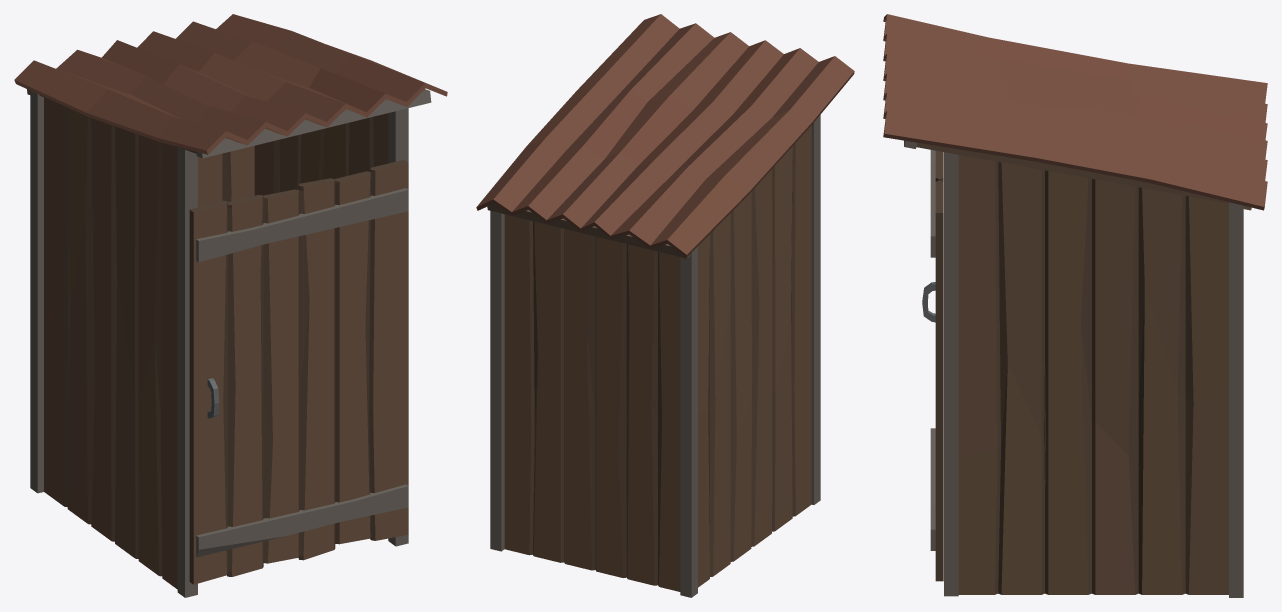
Rendered from SM_Bldg_Farm_Outhouse.fbx.
3 views of the same model, side by side, from view 1: azimuth 30°, elevation 25°; view 2: azimuth 150°, elevation 25°; view 3: azimuth 270°, elevation 25° (orthographic). The views are drawn at different scales.
Parts seen in each view (by area): view 1: SM_Bldg_Farm_Outhouse, SM_Bldg_Farm_Outhouse_Door; view 2: SM_Bldg_Farm_Outhouse; view 3: SM_Bldg_Farm_Outhouse, SM_Bldg_Farm_Outhouse_Door.
Boxes of the visible parts, x1,y1,x2,y2 form: SM_Bldg_Farm_Outhouse: (14,14,447,597); SM_Bldg_Farm_Outhouse_Door: (189,159,408,584); SM_Bldg_Farm_Outhouse: (476,14,854,597); SM_Bldg_Farm_Outhouse: (883,14,1267,597); SM_Bldg_Farm_Outhouse_Door: (922,150,943,581).
Size of the model in its own units: 137 by 264 by 192.
